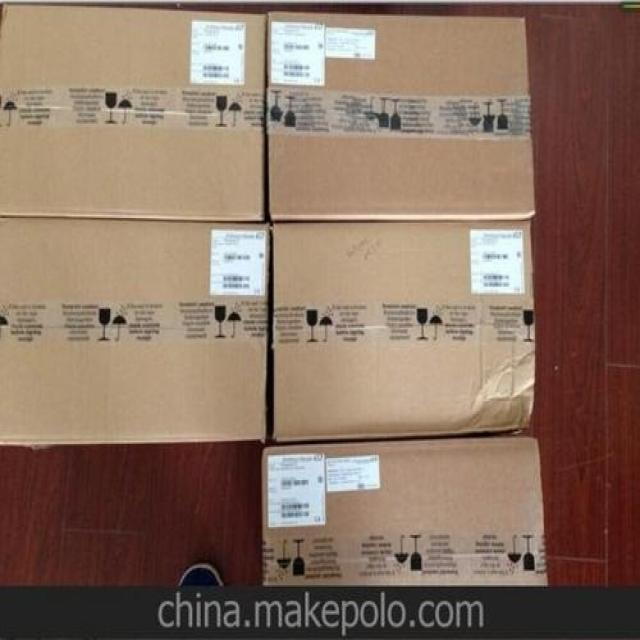box: (0, 220, 269, 445), (272, 219, 536, 441), (0, 5, 269, 222), (265, 13, 535, 221), (263, 436, 550, 587)
